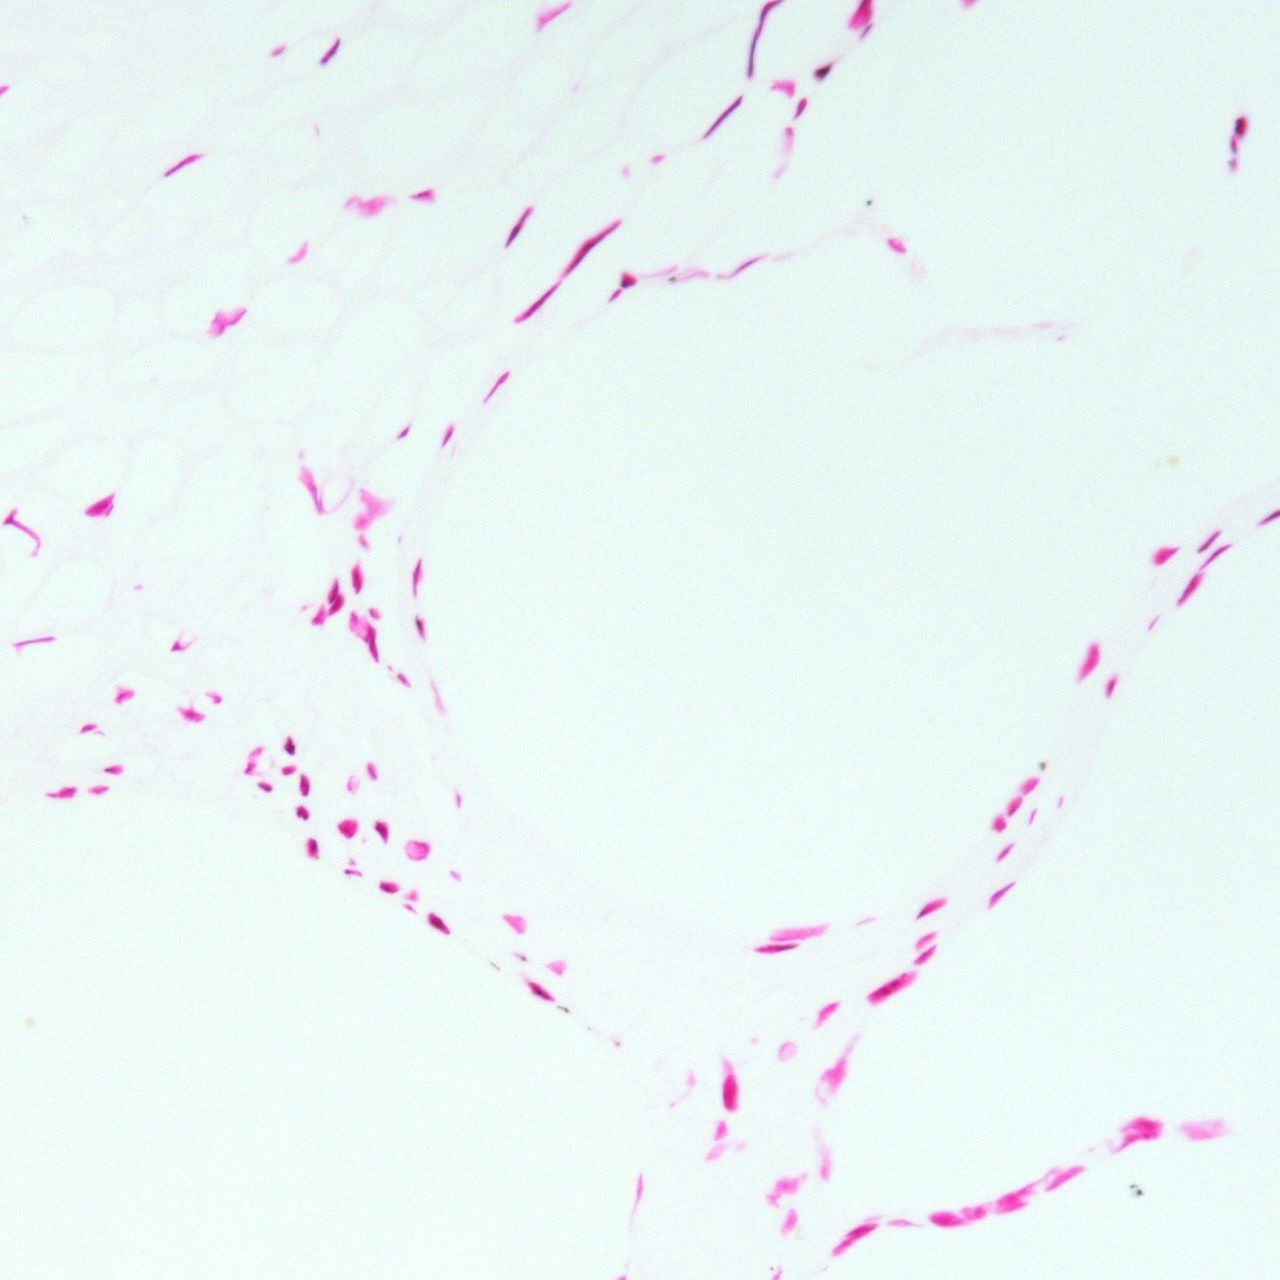dust: (1126, 1182, 1144, 1197), (667, 275, 676, 280)
nucleus-FG: (556, 213, 622, 277), (825, 1213, 881, 1260), (699, 91, 747, 141), (515, 279, 564, 325), (865, 968, 918, 1008), (501, 203, 536, 251), (982, 880, 1022, 910), (1175, 570, 1204, 610), (908, 893, 949, 921), (1197, 539, 1233, 568), (316, 32, 346, 68), (524, 978, 557, 1007), (423, 908, 454, 939), (1016, 769, 1044, 797), (912, 941, 941, 968), (1194, 527, 1223, 554), (722, 1070, 738, 1111), (362, 622, 379, 663), (810, 57, 835, 84), (790, 94, 811, 122), (411, 613, 430, 642), (1002, 792, 1024, 817), (324, 576, 343, 602), (755, 942, 799, 954), (440, 421, 456, 451), (994, 840, 1014, 863), (350, 561, 363, 595), (336, 819, 358, 838), (411, 559, 422, 597), (373, 821, 389, 843), (619, 270, 638, 288), (1234, 115, 1250, 137), (365, 760, 380, 782), (254, 778, 275, 794), (411, 188, 435, 200), (79, 721, 98, 735), (397, 423, 413, 441), (299, 772, 309, 796), (102, 763, 123, 775), (282, 736, 295, 755), (1105, 675, 1116, 697), (377, 881, 400, 892), (993, 813, 1006, 831), (307, 837, 318, 858), (297, 804, 309, 821), (206, 692, 222, 704), (1228, 137, 1238, 152), (171, 640, 184, 651), (1039, 761, 1046, 769)
